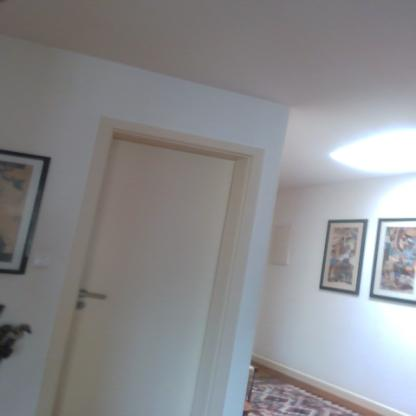closed: (77, 119, 276, 408)
